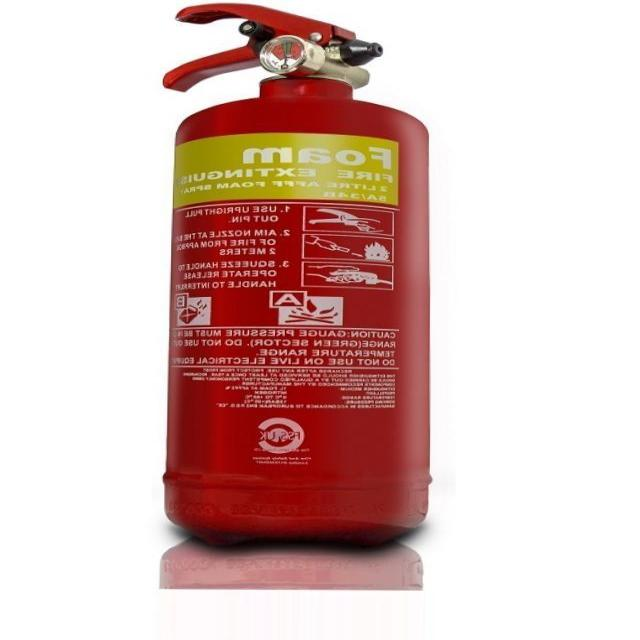fire_extinguisher: (158, 0, 440, 558)
